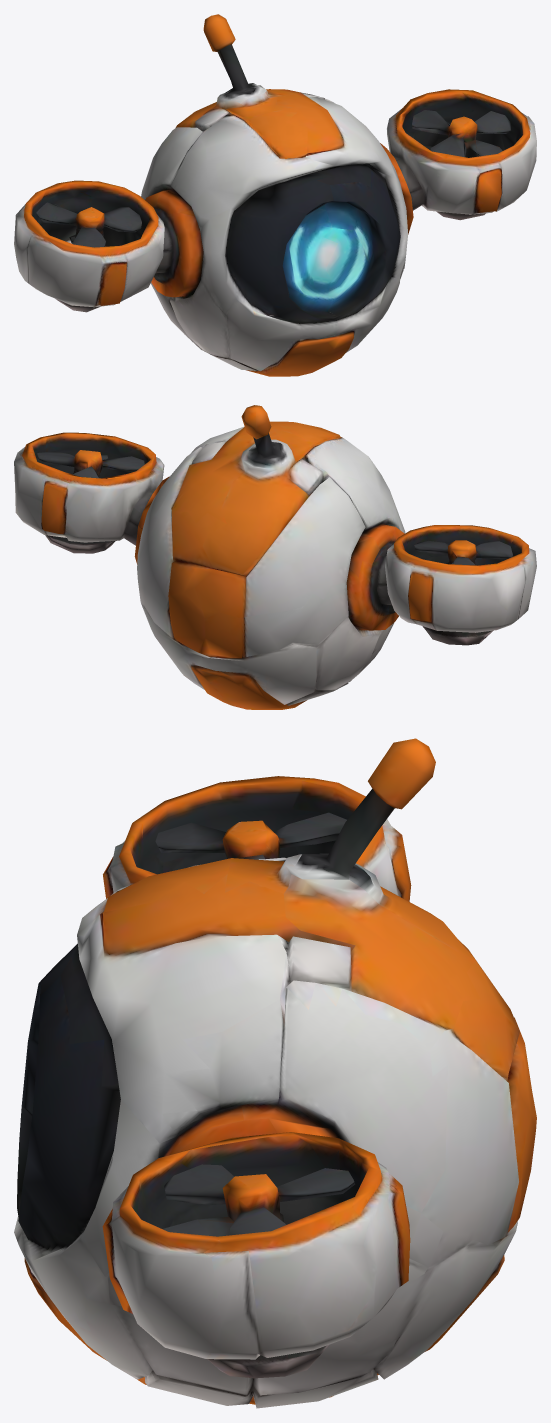
File: drone-bot.glb
3 views of the same model, one above another, from view 1: azimuth 30°, elevation 25°; view 2: azimuth 150°, elevation 25°; view 3: azimuth 270°, elevation 25° (orthographic). The views are drawn at different scales.
Visible parts, largest first — view 1: drone-bot; view 2: drone-bot; view 3: drone-bot.
Part boxes in pixels (bbox=[...]): drone-bot: bbox=[14, 14, 536, 376]; drone-bot: bbox=[14, 405, 536, 709]; drone-bot: bbox=[14, 738, 536, 1408].
Size of the model in its own units: 1.94 by 1.2 by 0.9022.
1 material, 1 textured.
